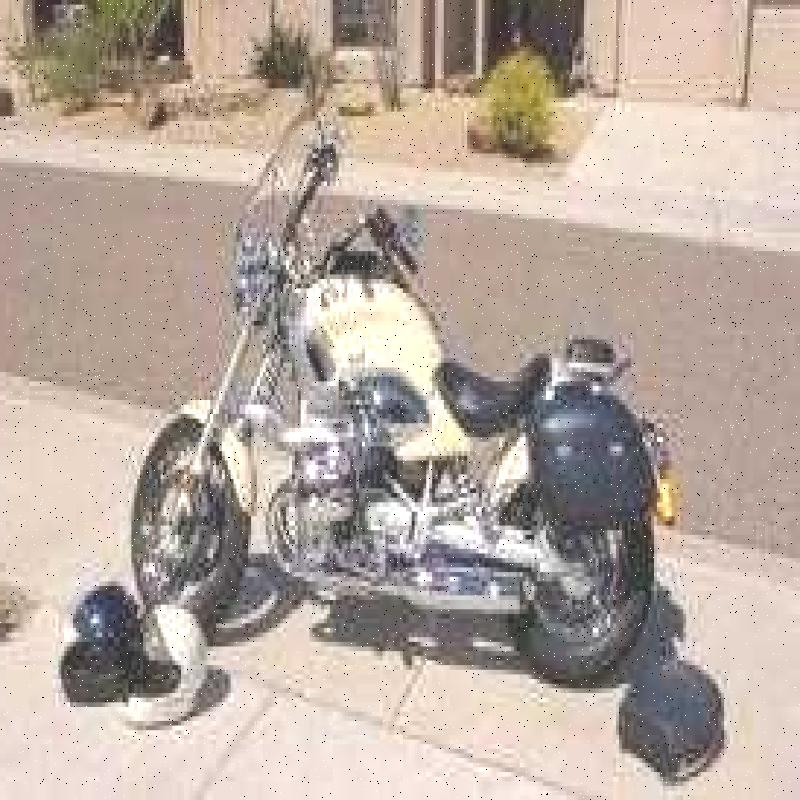bike: (110, 97, 703, 634)
